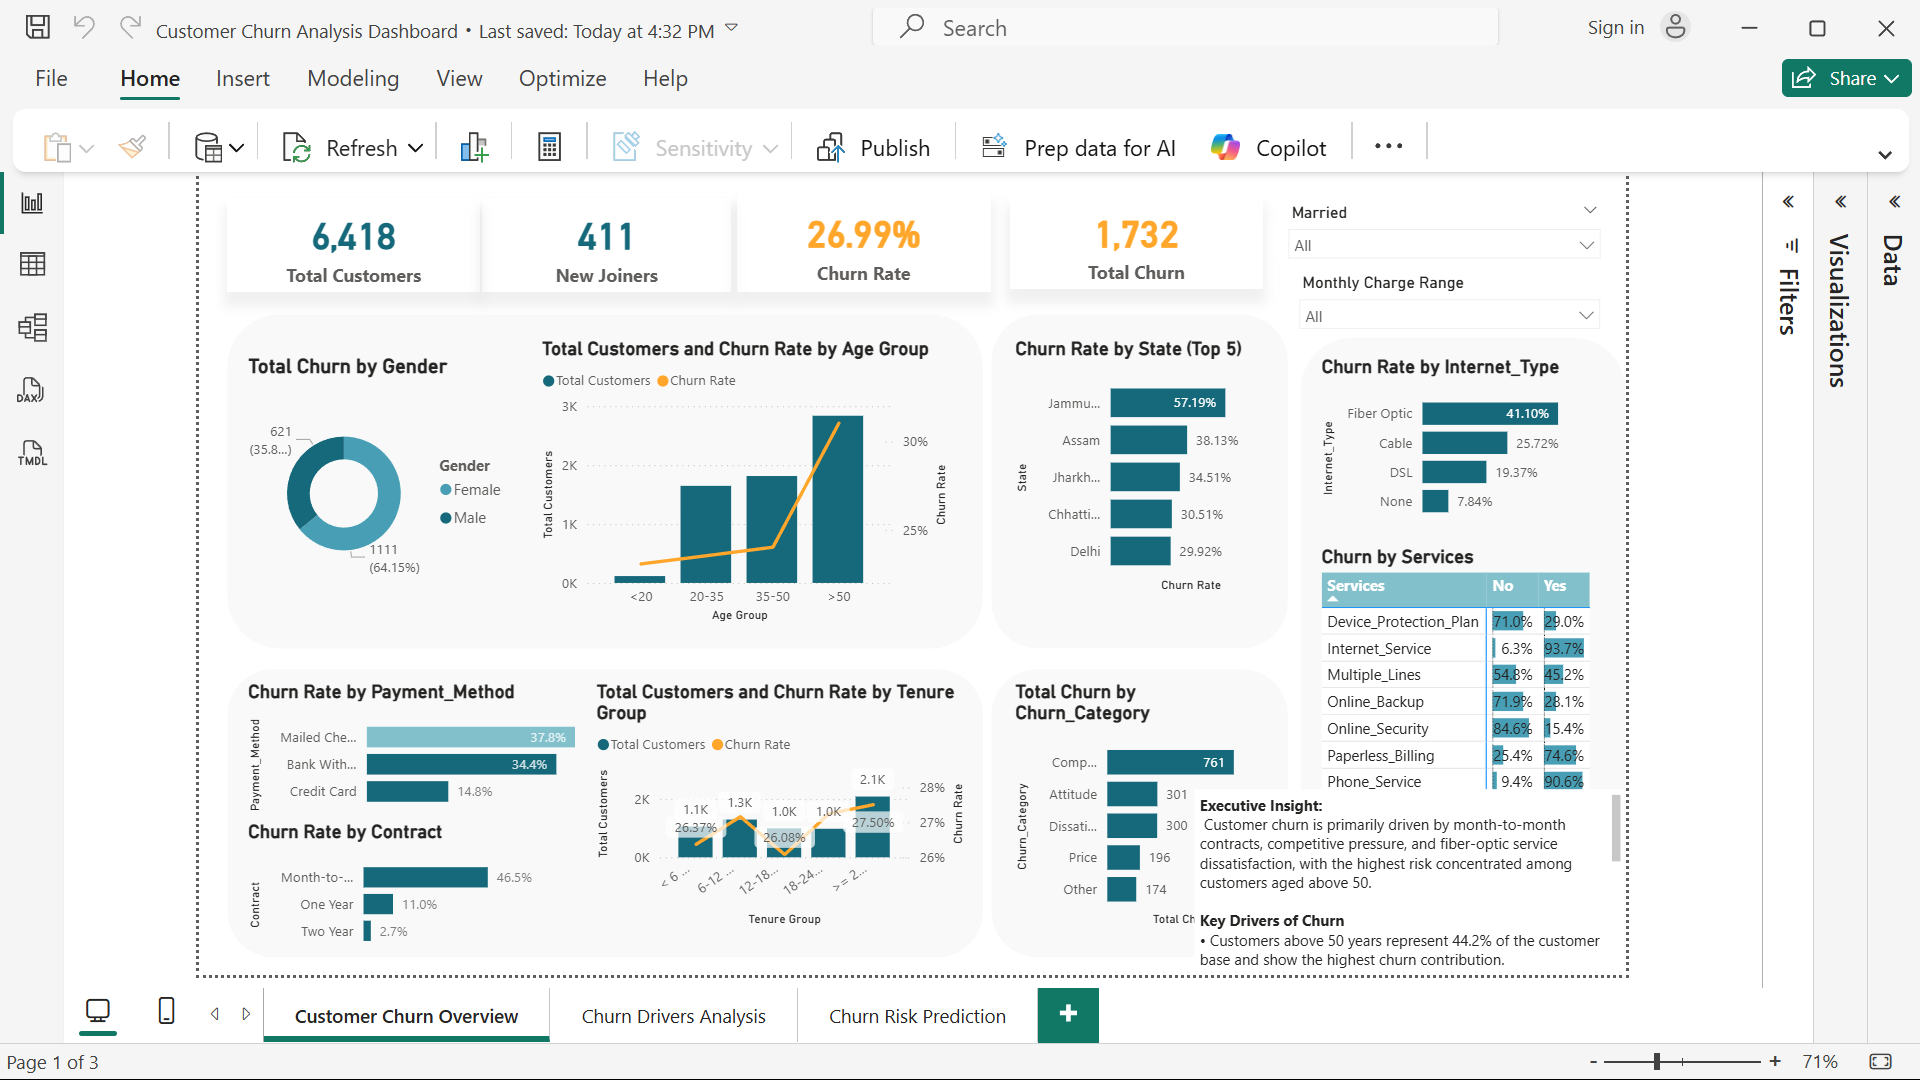

What the dashboard file says about the page in this screenshot:
{"tool":"powerbi","page":{"name":"Customer Churn Overview","canvas":[1280,720],"ordinal":0},"visuals":[{"type":"shape","box":[988.2,148.5,291.2,555.9],"z":0},{"type":"shape","box":[710.3,445.6,266.2,258.8],"z":1000},{"type":"shape","box":[710.3,127.9,266.2,300],"z":2000},{"type":"shape","box":[25,445.6,677.9,258.8],"z":3000},{"type":"shape","box":[25,127.9,677.9,300],"z":4000},{"type":"card","fields":{"Values":["tbl_measures.Total Customers"]},"box":[25,23.5,226.5,83.8],"z":5000},{"type":"card","fields":{"Values":["tbl_measures.New Joiners"]},"box":[252.9,23.5,223.5,83.8],"z":6000},{"type":"card","fields":{"Values":["tbl_measures.Total Churn"]},"box":[726.5,22.1,226.5,82.4],"z":7000},{"type":"card","fields":{"Values":["tbl_measures.Churn Rate"]},"box":[482.4,19.1,227.9,88.2],"z":8000},{"type":"donutChart","fields":{"Category":["prod_Churn.Gender"],"Y":["tbl_measures.Total Churn"]},"box":[39.7,163.2,247.1,227.9],"z":9000},{"type":"lineStackedColumnComboChart","fields":{"Category":["mapping_ageGRP.Age Group"],"Y":["tbl_measures.Total Customers"],"Y2":["tbl_measures.Churn Rate"]},"box":[302.9,148.5,373.5,258.8],"z":10000},{"type":"clusteredBarChart","fields":{"Category":["prod_Churn.Payment_Method"],"Y":["tbl_measures.Churn Rate"]},"box":[39.7,455.9,325,125],"z":11000},{"type":"lineStackedColumnComboChart","fields":{"Category":["mapping_tenureGRP.Tenure Group"],"Y":["tbl_measures.Total Customers"],"Y2":["tbl_measures.Churn Rate"]},"box":[351.5,455.9,339.7,225],"z":12000},{"type":"clusteredBarChart","title":"Churn Rate by State (Top 5)","fields":{"Category":["prod_Churn.State"],"Y":["tbl_measures.Churn Rate"]},"box":[726.5,148.5,239.7,232.4],"z":13000},{"type":"clusteredBarChart","fields":{"Category":["prod_Churn.Churn_Category"],"Y":["tbl_measures.Total Churn"]},"box":[726.5,455.9,229.4,225],"z":14000},{"type":"clusteredBarChart","fields":{"Category":["prod_Churn.Internet_Type"],"Y":["tbl_measures.Churn Rate"]},"box":[1001.5,163.2,264.7,157.4],"z":15000},{"type":"pivotTable","title":"Churn by Services","fields":{"Rows":["prod_Services.Services"],"Columns":["prod_Services.Status"],"Values":["Sum(prod_Services.Churn Status)"]},"box":[1001.5,335.3,277.9,369.1],"z":16000},{"type":"slicer","fields":{"Values":["prod_Services.Monthly Charge Status"]},"box":[976.5,85.3,289.7,55.9],"z":17000},{"type":"slicer","fields":{"Values":["prod_Services.Married"]},"box":[966.2,22.1,300,57.4],"z":18000},{"type":"clusteredBarChart","fields":{"Category":["prod_Churn.Contract"],"Y":["tbl_measures.Churn Rate"]},"box":[39.7,580.9,311.8,123.5],"z":19000},{"type":"textbox","box":[892.9,552.9,387.1,167.1],"z":20000}]}

Visuals, with their boxes on the page's 1280x720 design canvas (x1, y1, x2, y2). These are canvas units, not pixel positions in the 1920x1080 screenshot, which may show the page scaled, cropped or inside an application window:
shape: {"left": 988, "top": 148, "right": 1279, "bottom": 704}
shape: {"left": 710, "top": 446, "right": 976, "bottom": 704}
shape: {"left": 710, "top": 128, "right": 976, "bottom": 428}
shape: {"left": 25, "top": 446, "right": 703, "bottom": 704}
shape: {"left": 25, "top": 128, "right": 703, "bottom": 428}
card - tbl_measures.Total Customers: {"left": 25, "top": 24, "right": 252, "bottom": 107}
card - tbl_measures.New Joiners: {"left": 253, "top": 24, "right": 476, "bottom": 107}
card - tbl_measures.Total Churn: {"left": 726, "top": 22, "right": 953, "bottom": 104}
card - tbl_measures.Churn Rate: {"left": 482, "top": 19, "right": 710, "bottom": 107}
donutChart - prod_Churn.Gender x tbl_measures.Total Churn: {"left": 40, "top": 163, "right": 287, "bottom": 391}
lineStackedColumnComboChart - mapping_ageGRP.Age Group x tbl_measures.Total Customers: {"left": 303, "top": 148, "right": 676, "bottom": 407}
clusteredBarChart - prod_Churn.Payment_Method x tbl_measures.Churn Rate: {"left": 40, "top": 456, "right": 365, "bottom": 581}
lineStackedColumnComboChart - mapping_tenureGRP.Tenure Group x tbl_measures.Total Customers: {"left": 352, "top": 456, "right": 691, "bottom": 681}
"Churn Rate by State (Top 5)" clusteredBarChart: {"left": 726, "top": 148, "right": 966, "bottom": 381}
clusteredBarChart - prod_Churn.Churn_Category x tbl_measures.Total Churn: {"left": 726, "top": 456, "right": 956, "bottom": 681}
clusteredBarChart - prod_Churn.Internet_Type x tbl_measures.Churn Rate: {"left": 1002, "top": 163, "right": 1266, "bottom": 321}
"Churn by Services" pivotTable: {"left": 1002, "top": 335, "right": 1279, "bottom": 704}
slicer - prod_Services.Monthly Charge Status: {"left": 976, "top": 85, "right": 1266, "bottom": 141}
slicer - prod_Services.Married: {"left": 966, "top": 22, "right": 1266, "bottom": 80}
clusteredBarChart - prod_Churn.Contract x tbl_measures.Churn Rate: {"left": 40, "top": 581, "right": 352, "bottom": 704}
textbox: {"left": 893, "top": 553, "right": 1280, "bottom": 720}
